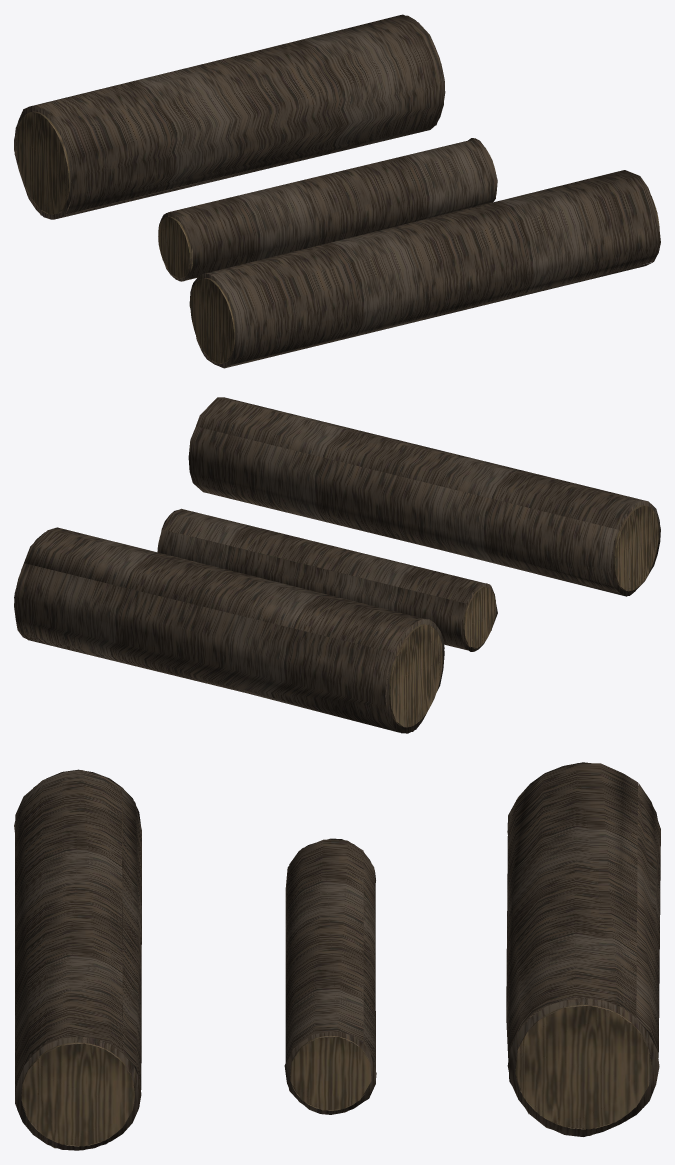
File: NT07_FallenLog.glb
3 views of the same model, one above another, from view 1: azimuth 30°, elevation 25°; view 2: azimuth 150°, elevation 25°; view 3: azimuth 270°, elevation 25° (orthographic). The views are drawn at different scales.
Parts seen in each view (by area): view 1: NT07_FallenLog; view 2: NT07_FallenLog; view 3: NT07_FallenLog.
Part boxes in pixels (x1=…): NT07_FallenLog: x1=14, y1=14, x2=660, y2=368; NT07_FallenLog: x1=14, y1=397, x2=660, y2=733; NT07_FallenLog: x1=14, y1=762, x2=660, y2=1150.
Size of the model in its own units: 2.46 by 0.5939 by 2.5.
3 materials, 3 textured.
